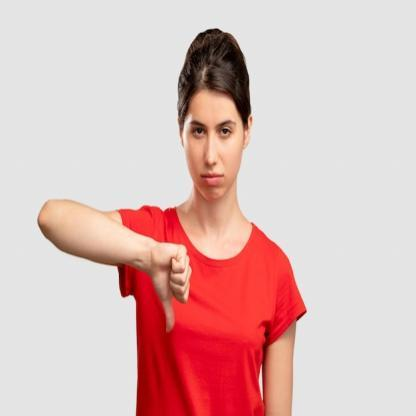thumb_down: (148, 237, 193, 336)
